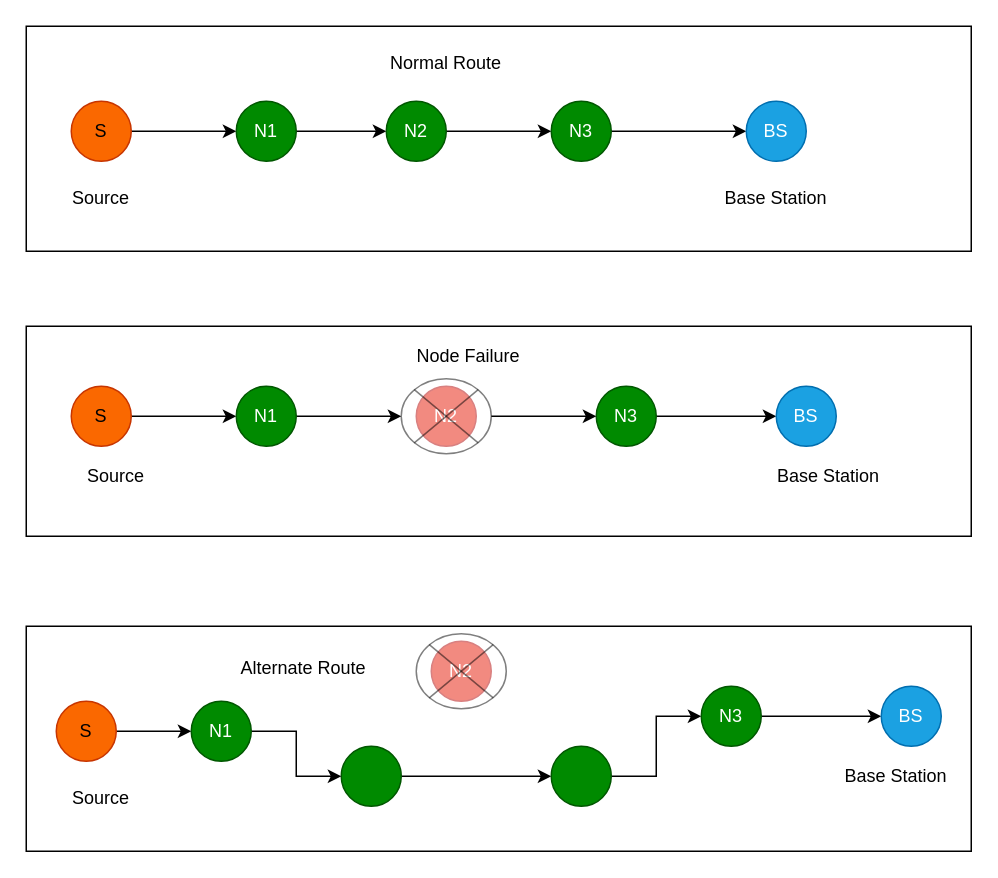
Some shapes in this 998 by 878 pixel diagram are drawn without their labels. Each missing label, with the box of its shape:
N4: (340, 745, 401, 806)
N5: (550, 745, 611, 806)
